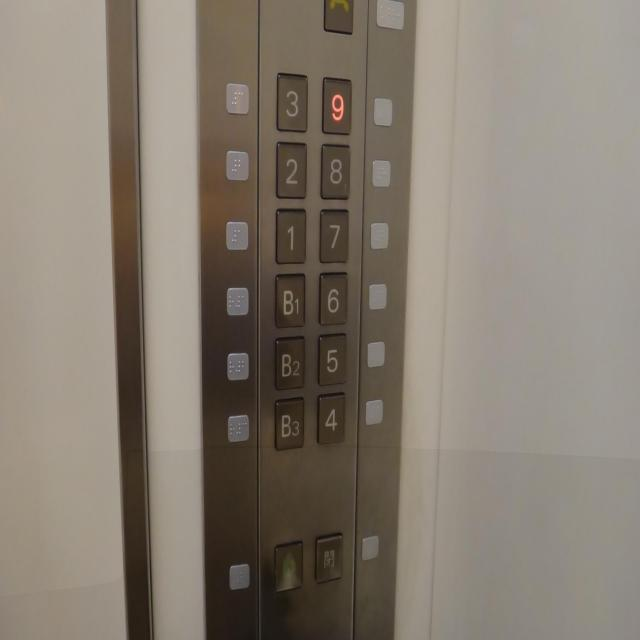1: (275, 206, 306, 264)
2: (276, 140, 308, 200)
3: (276, 71, 309, 132)
4: (316, 390, 346, 445)
5: (318, 331, 347, 386)
6: (318, 271, 348, 325)
7: (319, 206, 349, 263)
8: (320, 142, 351, 200)
9: (321, 75, 353, 135)
B1: (274, 271, 306, 328)
B2: (275, 333, 305, 391)
B3: (274, 395, 305, 452)
call: (323, 0, 354, 35)
stop: (275, 541, 302, 591)
text: (316, 533, 342, 583)
